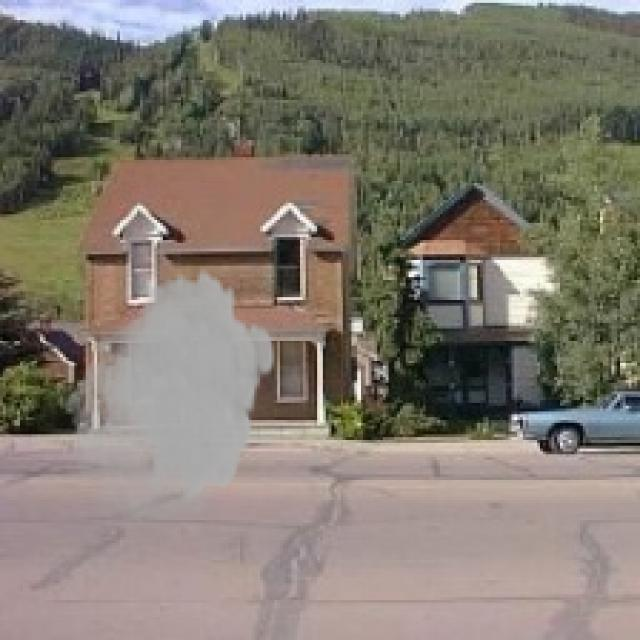Smoke: (57, 266, 277, 520)
